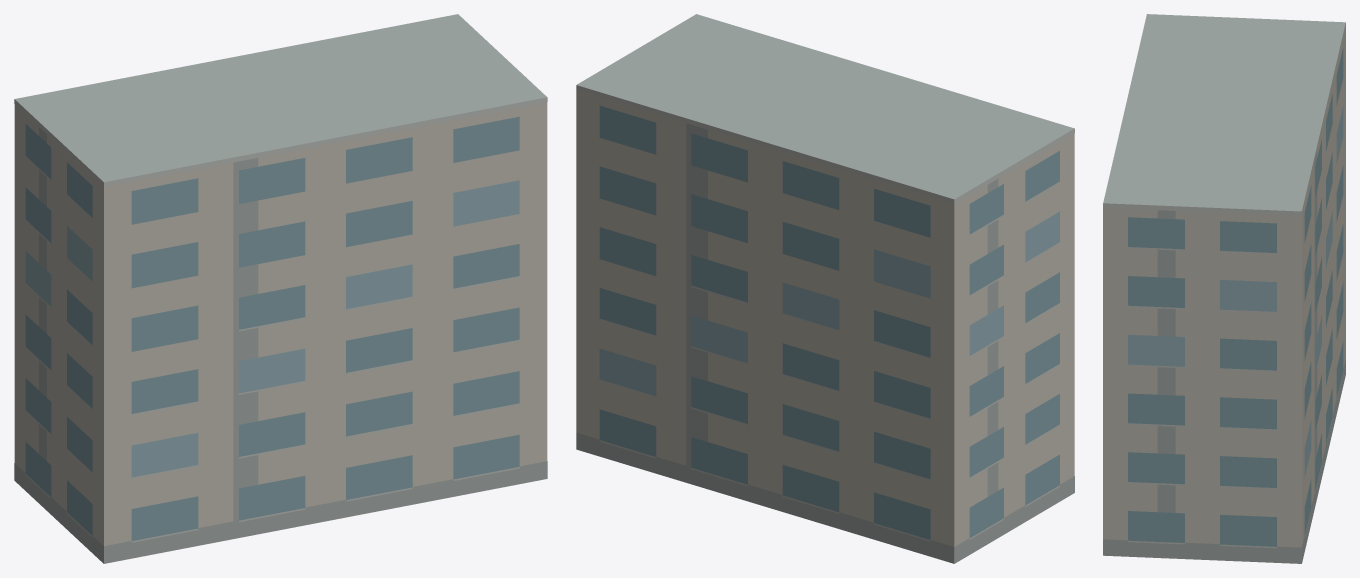
The model's file is residential-c8fefbca-2282-4ecd-8bcf-b7ec6d820e6c.glb.
3 renders of one model, left to right at view 1: azimuth 30°, elevation 25°; view 2: azimuth 150°, elevation 25°; view 3: azimuth 270°, elevation 25°, orthographic. The views are drawn at different scales.
Parts seen in each view (by area): view 1: residential-c8fefbca-2282-4ecd-8bcf-b7ec6d820e6c.tmp; view 2: residential-c8fefbca-2282-4ecd-8bcf-b7ec6d820e6c.tmp; view 3: residential-c8fefbca-2282-4ecd-8bcf-b7ec6d820e6c.tmp.
Boxes of the visible parts, x1,y1,x2,y2 form: residential-c8fefbca-2282-4ecd-8bcf-b7ec6d820e6c.tmp: (14,14,547,563); residential-c8fefbca-2282-4ecd-8bcf-b7ec6d820e6c.tmp: (576,14,1074,563); residential-c8fefbca-2282-4ecd-8bcf-b7ec6d820e6c.tmp: (1103,14,1345,563).
Bounding box in the file's own units: 22 × 18.3 × 11.43.
